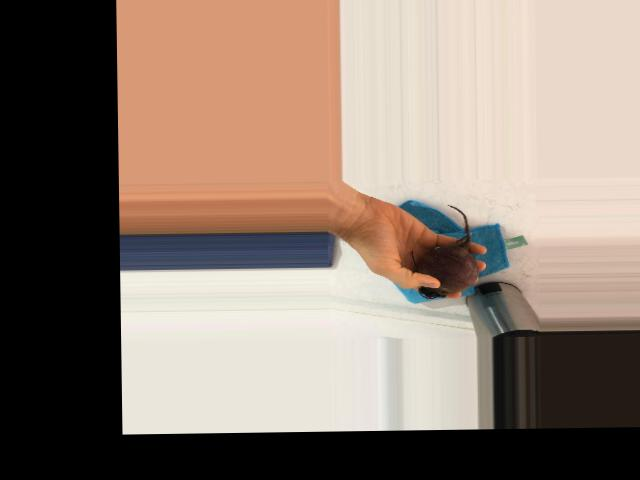beet: (411, 204, 479, 298)
